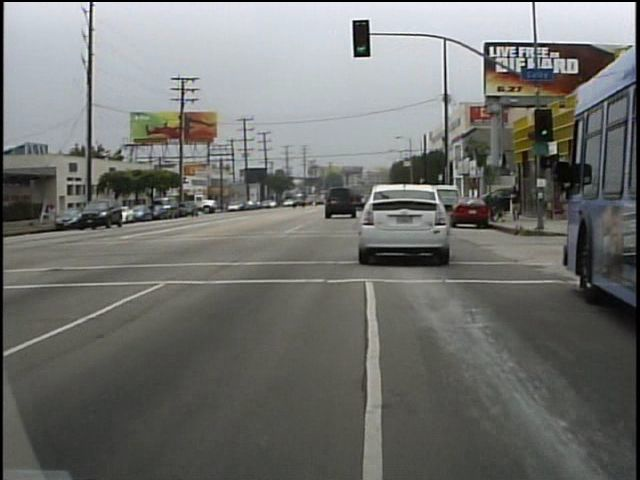person: (506, 181, 527, 229), (56, 202, 57, 229)
